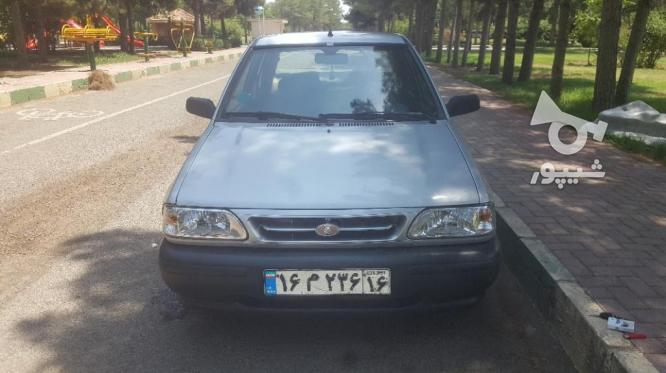car: (264, 265, 397, 299)
